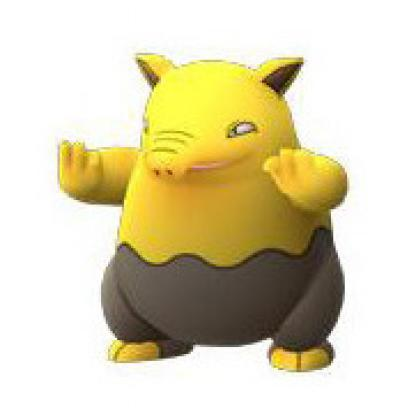Drowzee: (57, 39, 365, 377)
